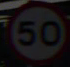Speed limit: (3, 3, 64, 59)
